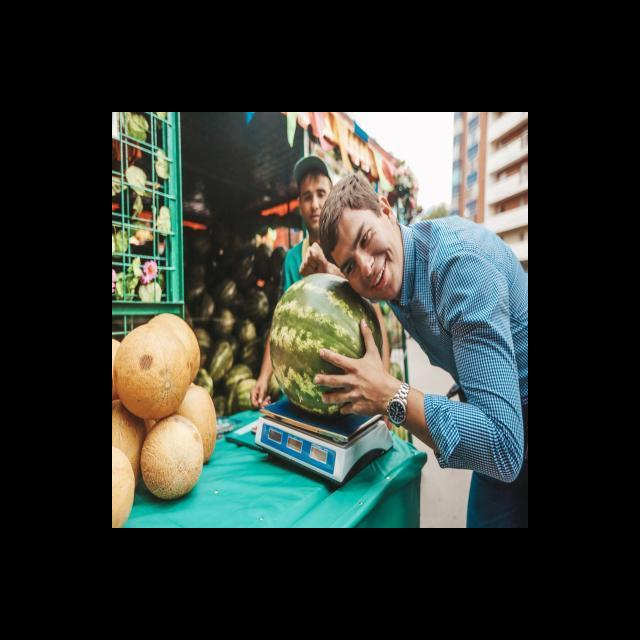watermelon: (268, 272, 384, 418), (207, 341, 234, 382), (242, 290, 270, 324), (222, 363, 254, 392), (232, 259, 258, 291), (211, 307, 235, 340), (189, 292, 214, 323), (234, 379, 258, 410), (192, 368, 215, 399), (214, 278, 236, 306), (240, 336, 262, 364), (236, 318, 256, 346), (186, 280, 206, 302), (192, 327, 210, 351), (212, 394, 226, 418)
